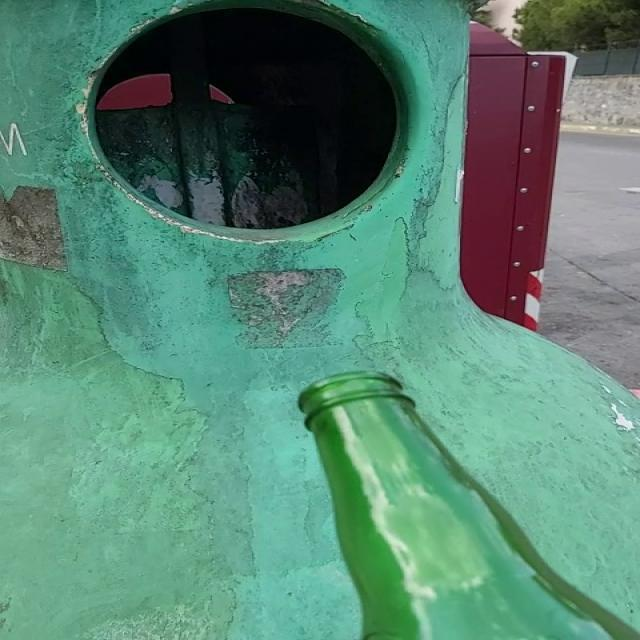Glass: (299, 372, 640, 640)
